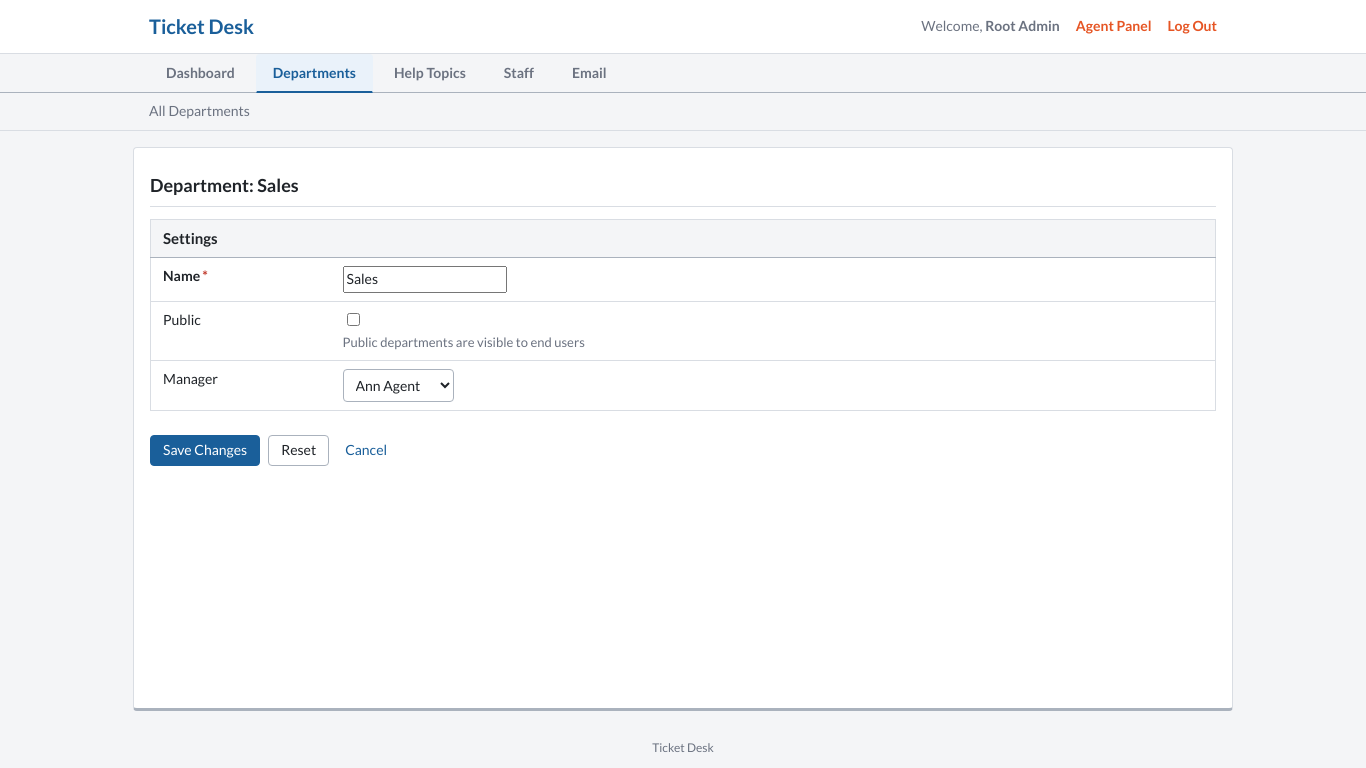
Test: edit seeds the form, sends only changed fields, and stays on the form
expect the heading "Department: Sales" is shown: met, box [150, 172, 299, 198]
expect the checkbox labelled "Public" is not checked: met, box [346, 313, 360, 326]
Replace the text in the field labelled "Name*" with "Sales EMEA" at (424, 280), box [342, 266, 506, 293]
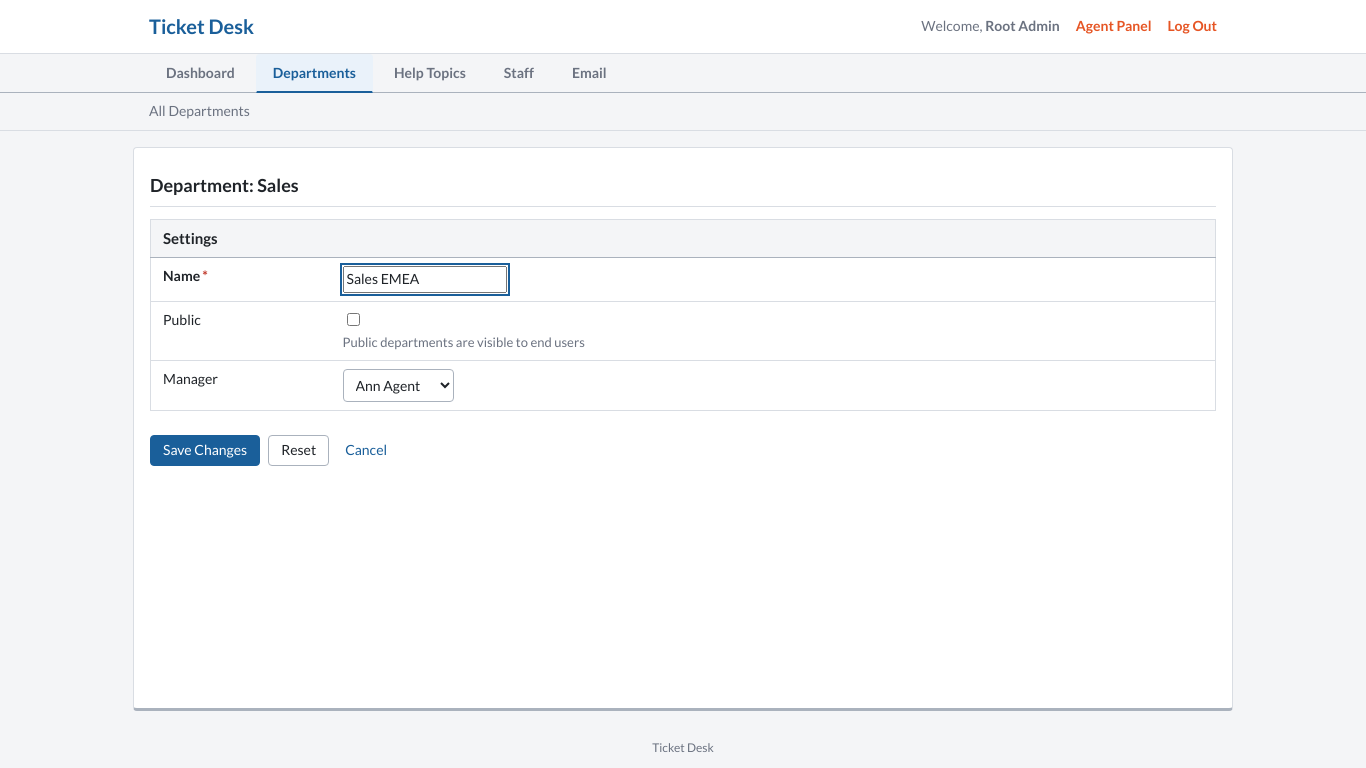
Click the button "Save Changes".
click(205, 450)  # box [150, 435, 260, 466]
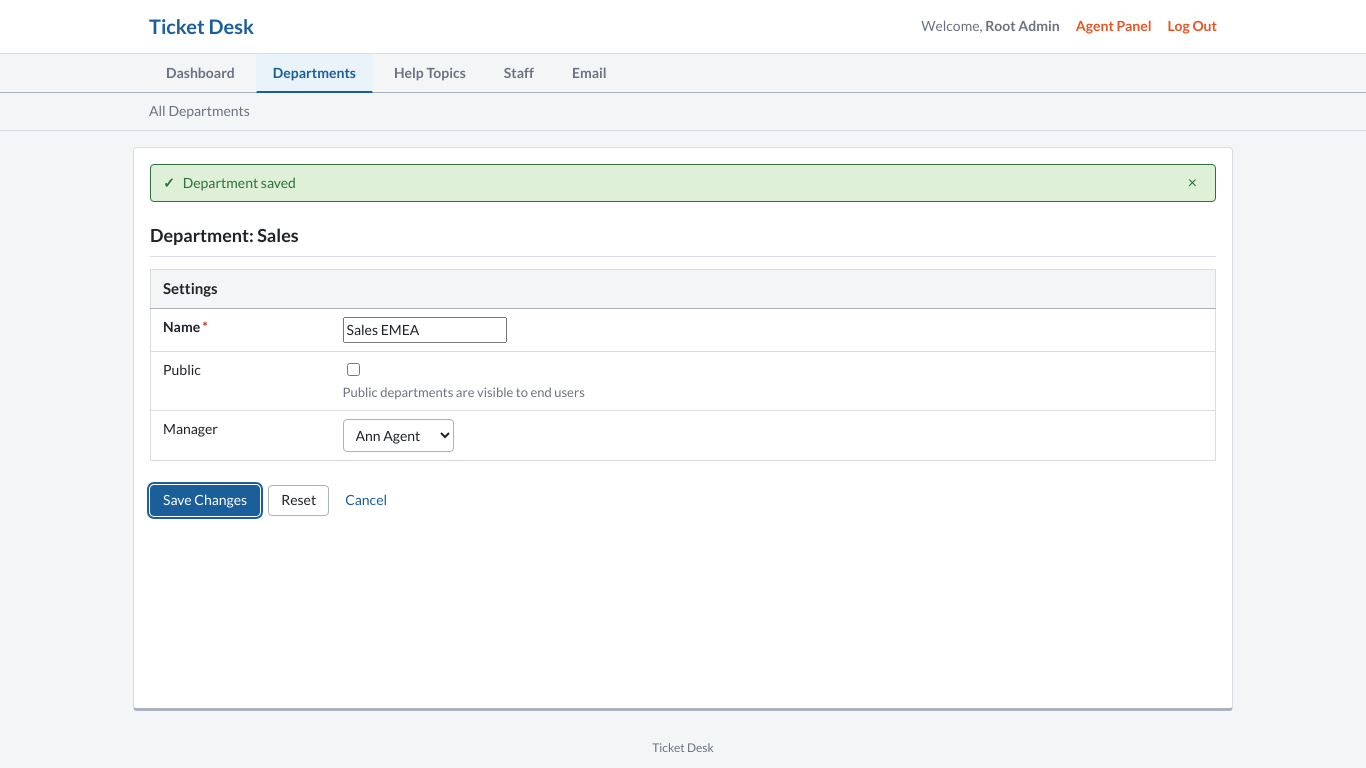
expect the message shows "Department saved": met, box [183, 174, 296, 191]
